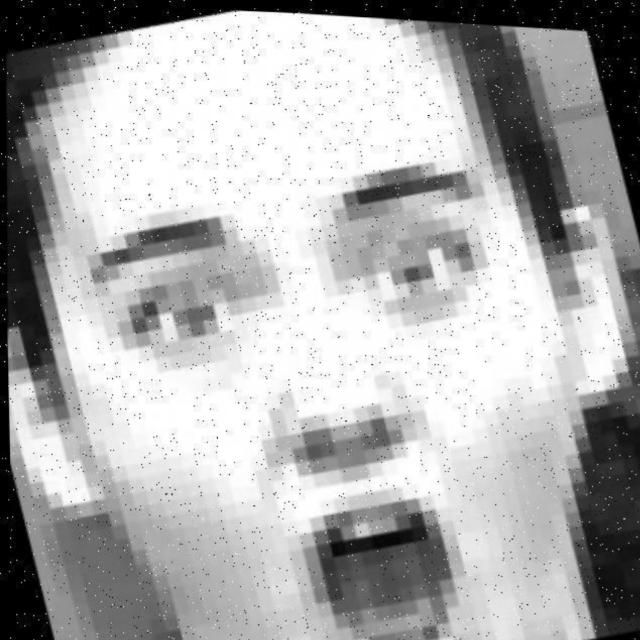Surprised: (55, 86, 628, 640)
